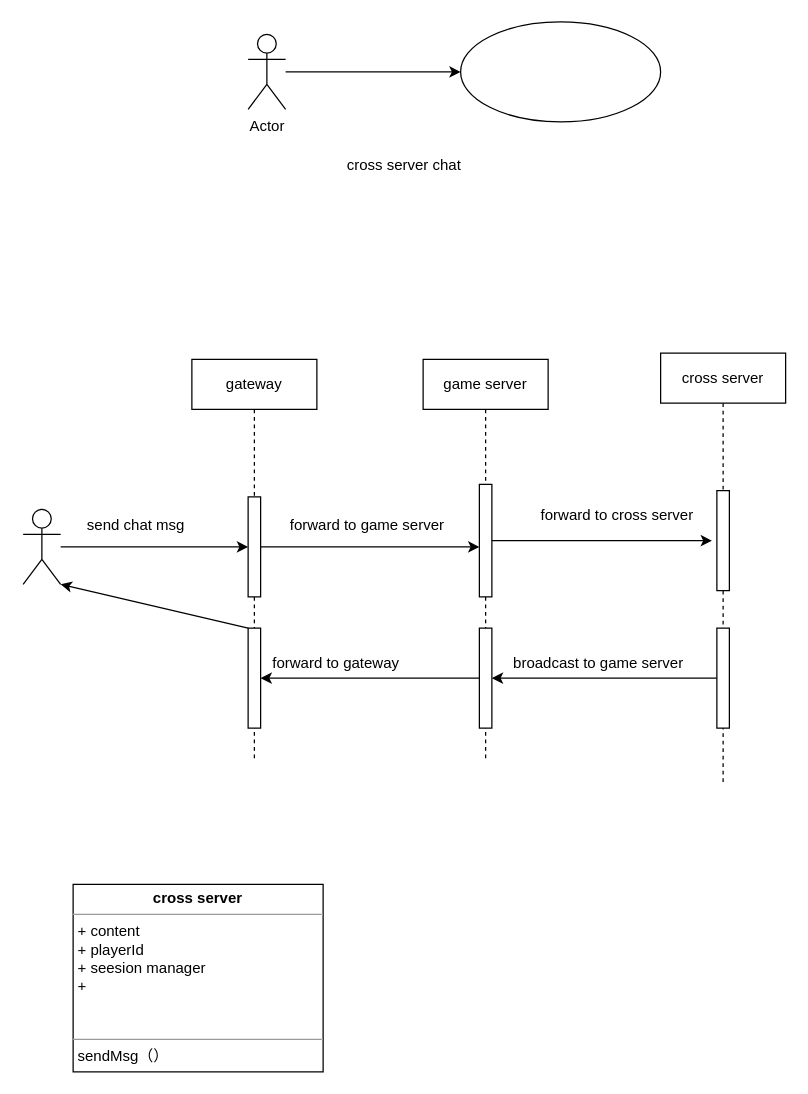
This 808x1094 diagram has some shape labels left out. The centre of each missing label's shape, as x and y in pixels:
cross_server_chat: point 560,71
player: point 41,546
